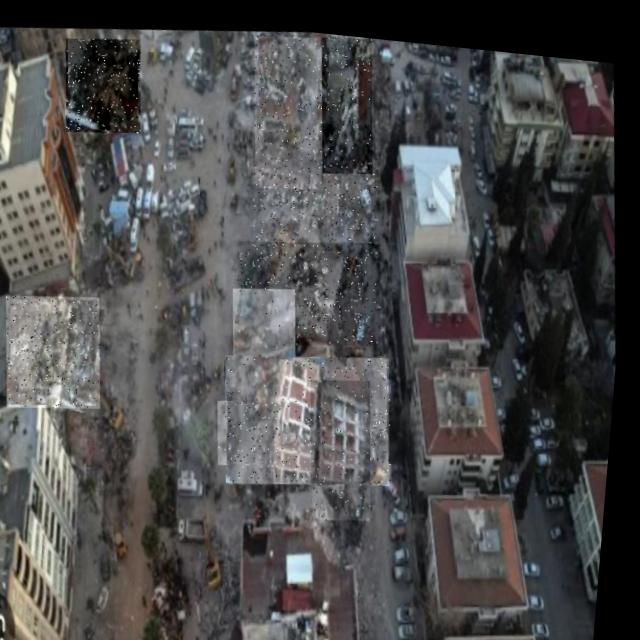Rubble: (223, 335, 406, 490), (234, 223, 392, 349), (249, 141, 387, 255), (259, 30, 373, 164), (244, 25, 333, 187), (4, 286, 113, 414), (227, 277, 312, 441), (308, 367, 387, 516), (312, 26, 383, 169), (60, 30, 148, 136), (219, 389, 292, 464)
